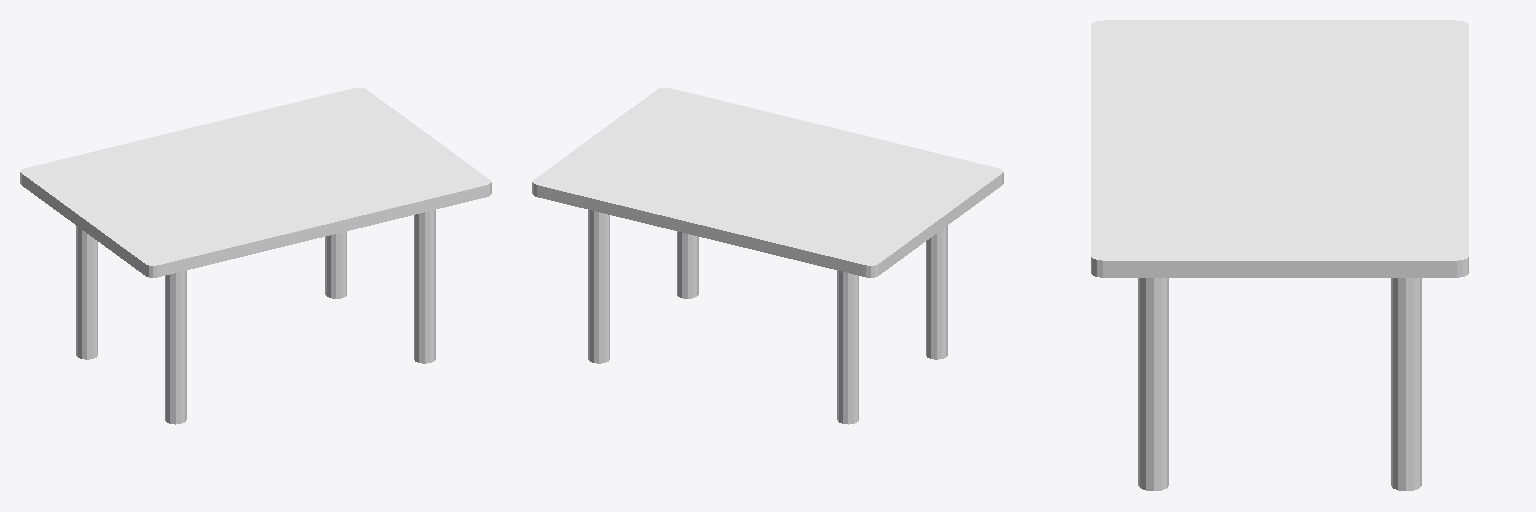
URDF robot description (Officedesk_G):
<?xml version="1.0" encoding="utf-8"?>
<!-- This URDF was automatically created by SolidWorks to URDF Exporter! Originally created by [author] ([email redacted]) 
     Commit Version: 1.5.1-0-g916b5db  Build Version: 1.5.7152.31018
     For more information, please see http://wiki.ros.org/sw_urdf_exporter -->
<robot
  name="Officedesk_G">
  <link
    name="Officedesk_G">
    <inertial>
      <origin
        xyz="-3.58E-17 4.96E-17 0.39692"
        rpy="0 0 0" />
      <mass
        value="19.488" />
      <inertia
        ixx="0.806"
        ixy="7.9409E-18"
        ixz="-1.8106E-19"
        iyy="1.6288"
        iyz="1.811E-17"
        izz="2.058" />
    </inertial>
    <visual>
      <origin
        xyz="0 0 0"
        rpy="0 0 0" />
      <geometry>
        <mesh
          filename="package://Officedesk_G/meshes/Officedesk_G.STL" />
      </geometry>
      <material
        name="">
        <color
          rgba="1 1 1 1" />
        <texture
          filename="package://Officedesk_G/textures/" />
      </material>
    </visual>
    <collision>
      <origin
        xyz="0 0 0"
        rpy="0 0 0" />
      <geometry>
        <mesh
          filename="package://Officedesk_G/meshes/Officedesk_G.STL" />
      </geometry>
    </collision>
  </link>
</robot>

--- Render facts (derived) ---
3 views of the same robot in one strip: view 1: azimuth 30°, elevation 25°; view 2: azimuth 150°, elevation 25°; view 3: azimuth 270°, elevation 25° (orthographic).
Robot: Officedesk_G — 1 links, 0 joints (none); root link Officedesk_G; default pose: every joint at zero.
Links seen in each view (by area): view 1: Officedesk_G; view 2: Officedesk_G; view 3: Officedesk_G.
Link boxes in pixels (x1,y1,x2,y2): Officedesk_G: [20, 87, 491, 424]; Officedesk_G: [532, 87, 1003, 424]; Officedesk_G: [1091, 20, 1468, 490].
Size in the robot's own frame: 0.9 by 0.6 by 0.45 metres.
Meshes: 1 distinct files referenced, 1 mesh visuals loaded (1 binary STL).